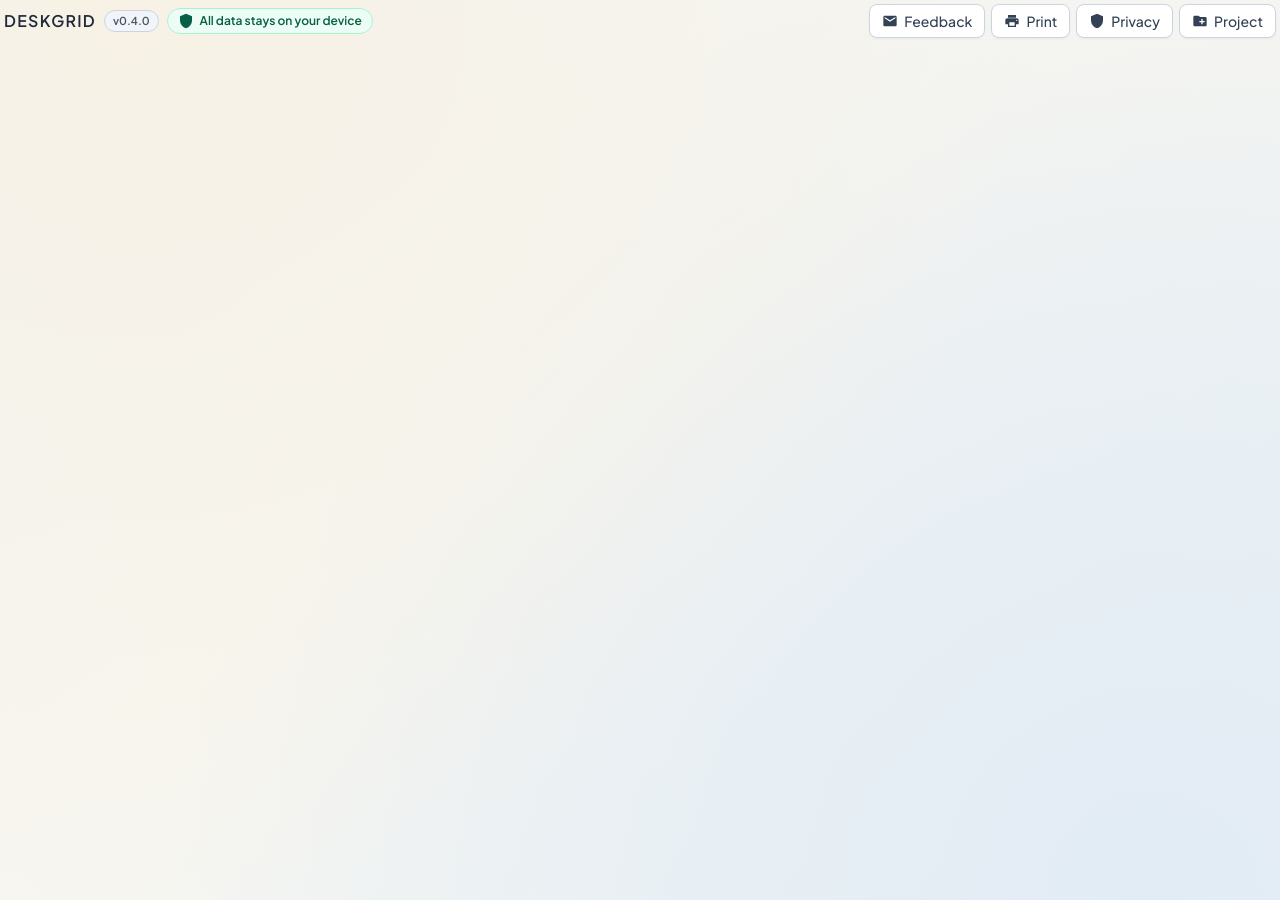
Test: TopBar privacy messaging › disables print preview when there are no seats to print
Click the heading "Print".
click(1031, 21)  # box [991,4,1070,38]
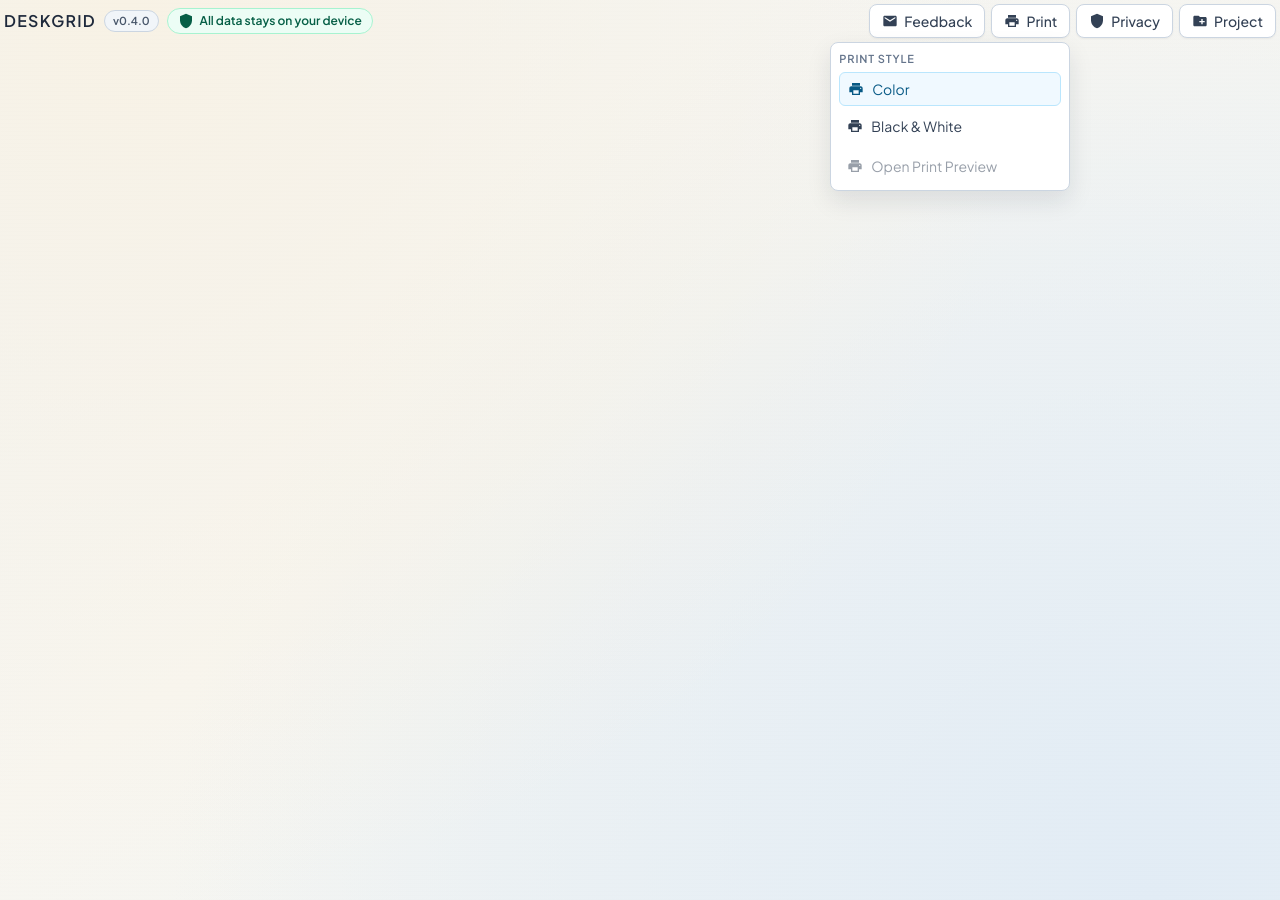
Expected: the button "Open Print Preview" is disabled, [839,150,1061,182]
